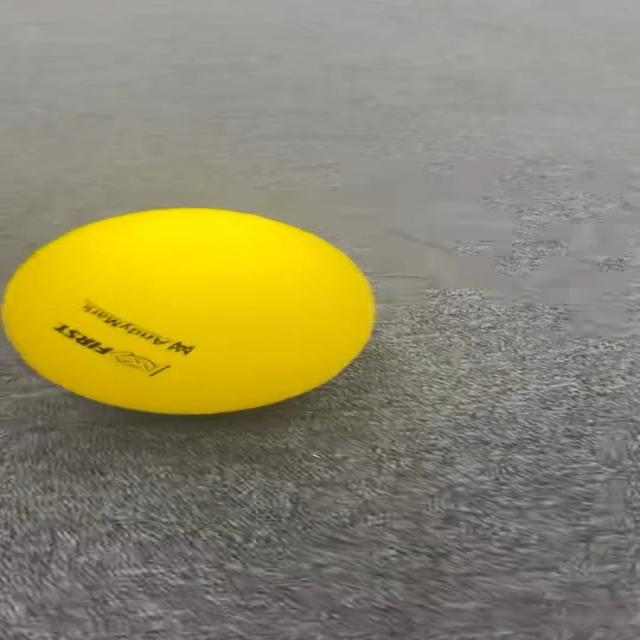Fuels: (4, 209, 375, 411)
